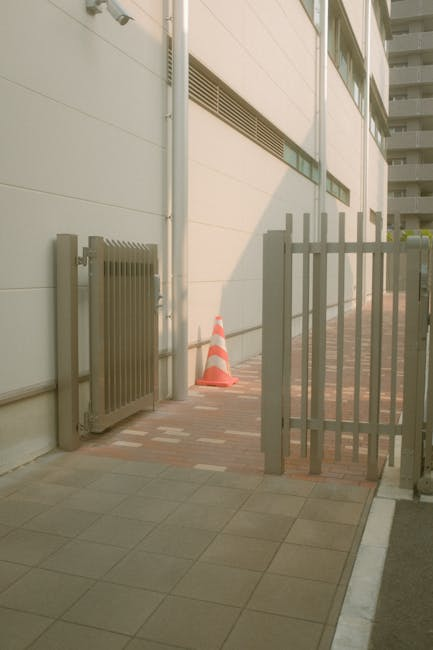traffic_cone: (195, 315, 239, 387), (209, 315, 239, 383)
